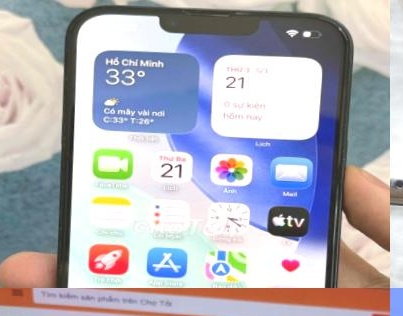scratch: (390, 160, 403, 202)
